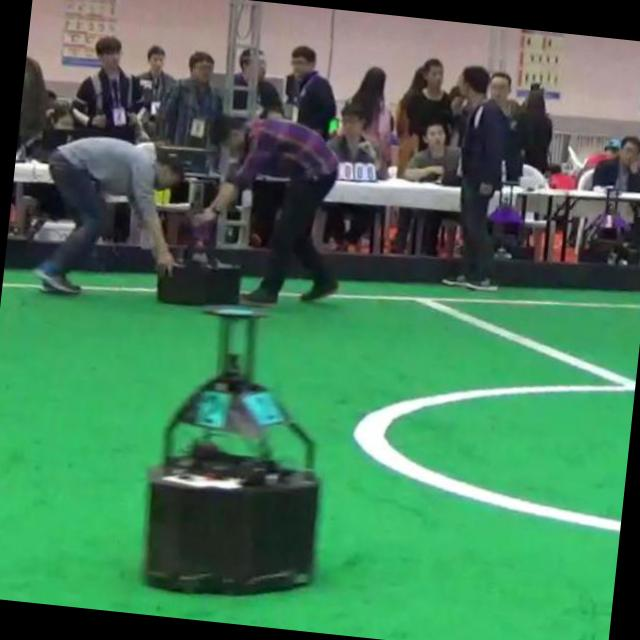robot: (145, 306, 320, 596), (157, 178, 241, 305)
